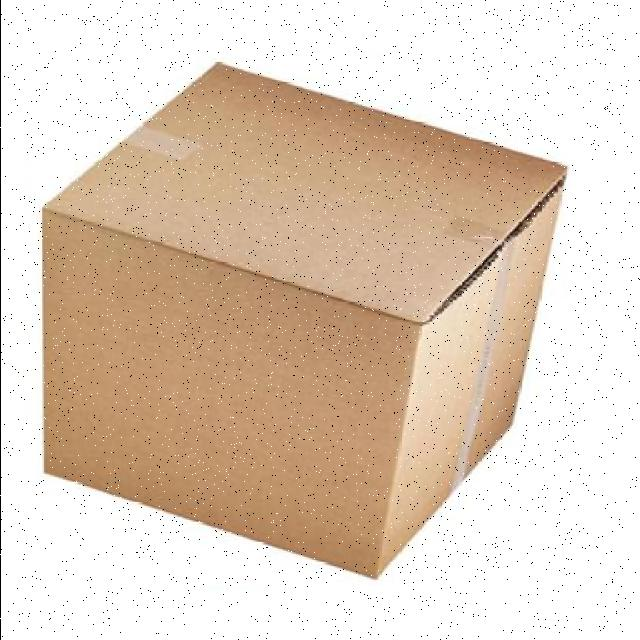normal: (31, 57, 575, 586)
